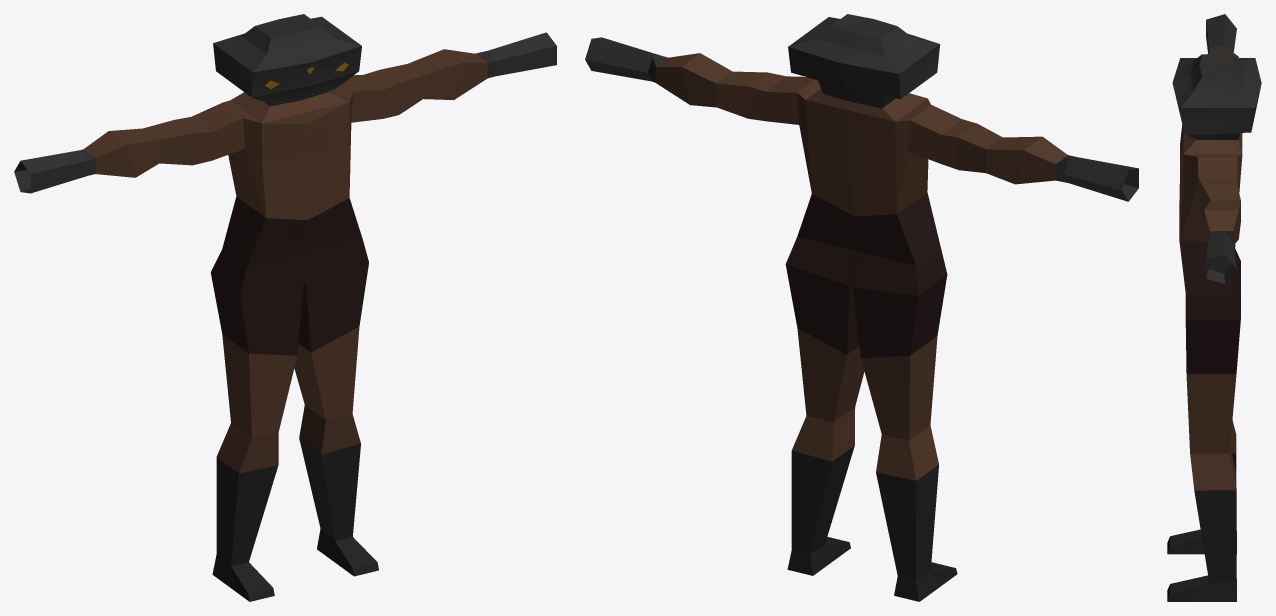
File: ShooterEnemy.fbx
The picture shows the model from 3 angles, left to right: view 1: azimuth 30°, elevation 25°; view 2: azimuth 150°, elevation 25°; view 3: azimuth 270°, elevation 25°; orthographic projection. The views are drawn at different scales.
Visible parts, largest first — view 1: Cube.001; view 2: Cube.001; view 3: Cube.001.
Boxes of the visible parts, bbox=[...] form: Cube.001: bbox=[14, 14, 556, 601]; Cube.001: bbox=[585, 14, 1138, 601]; Cube.001: bbox=[1167, 14, 1261, 601].
Size of the model in its own units: 69.42 by 68.14 by 11.5.
1 material, 1 textured.
